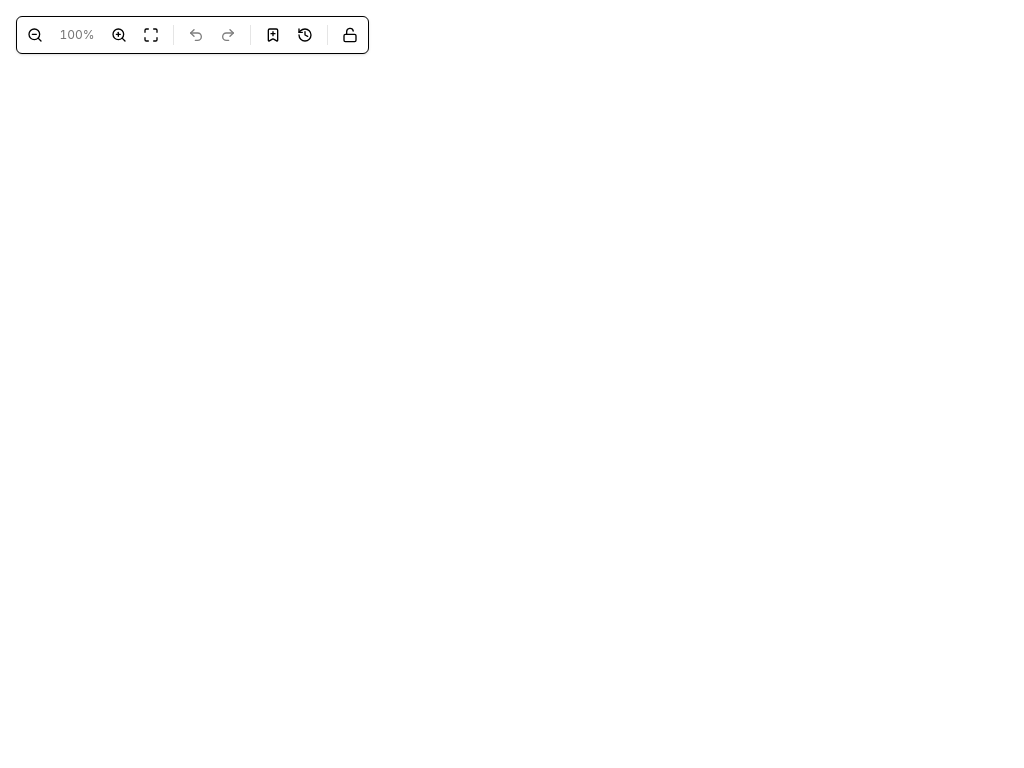
it: CanvasToolbar › version-history button opens the VersionHistoryDialog
Click the button named "版本历史" at (305, 35), box [291,21,319,49]
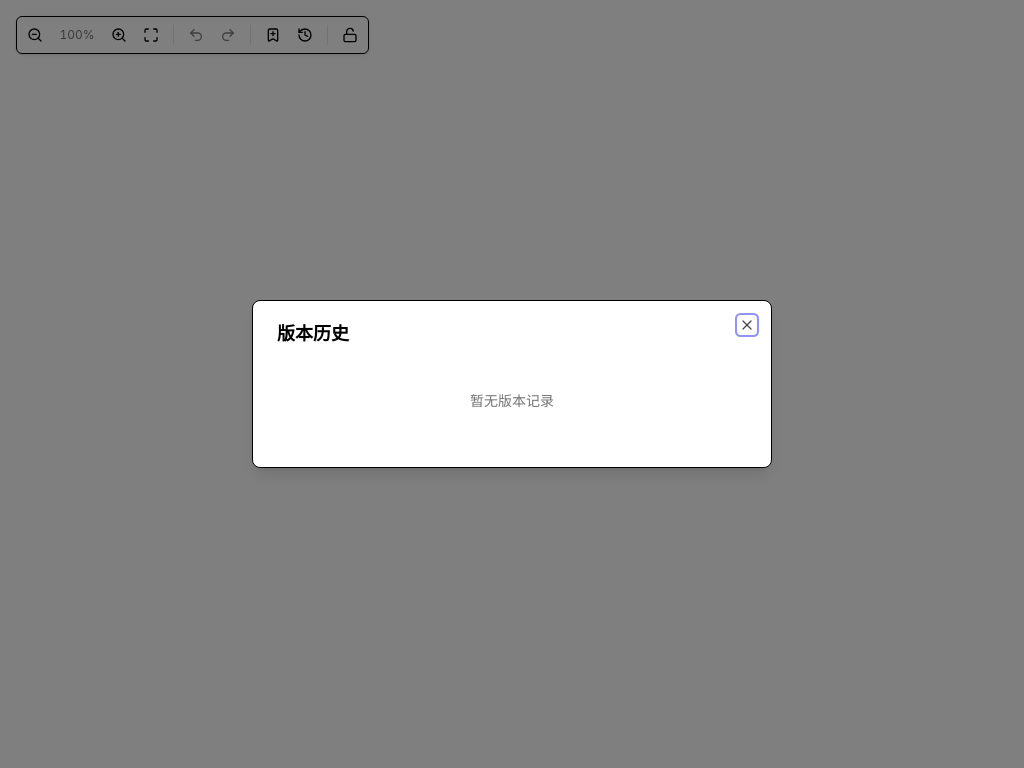
Result: the heading "版本历史" is shown at [277,323,349,344]
